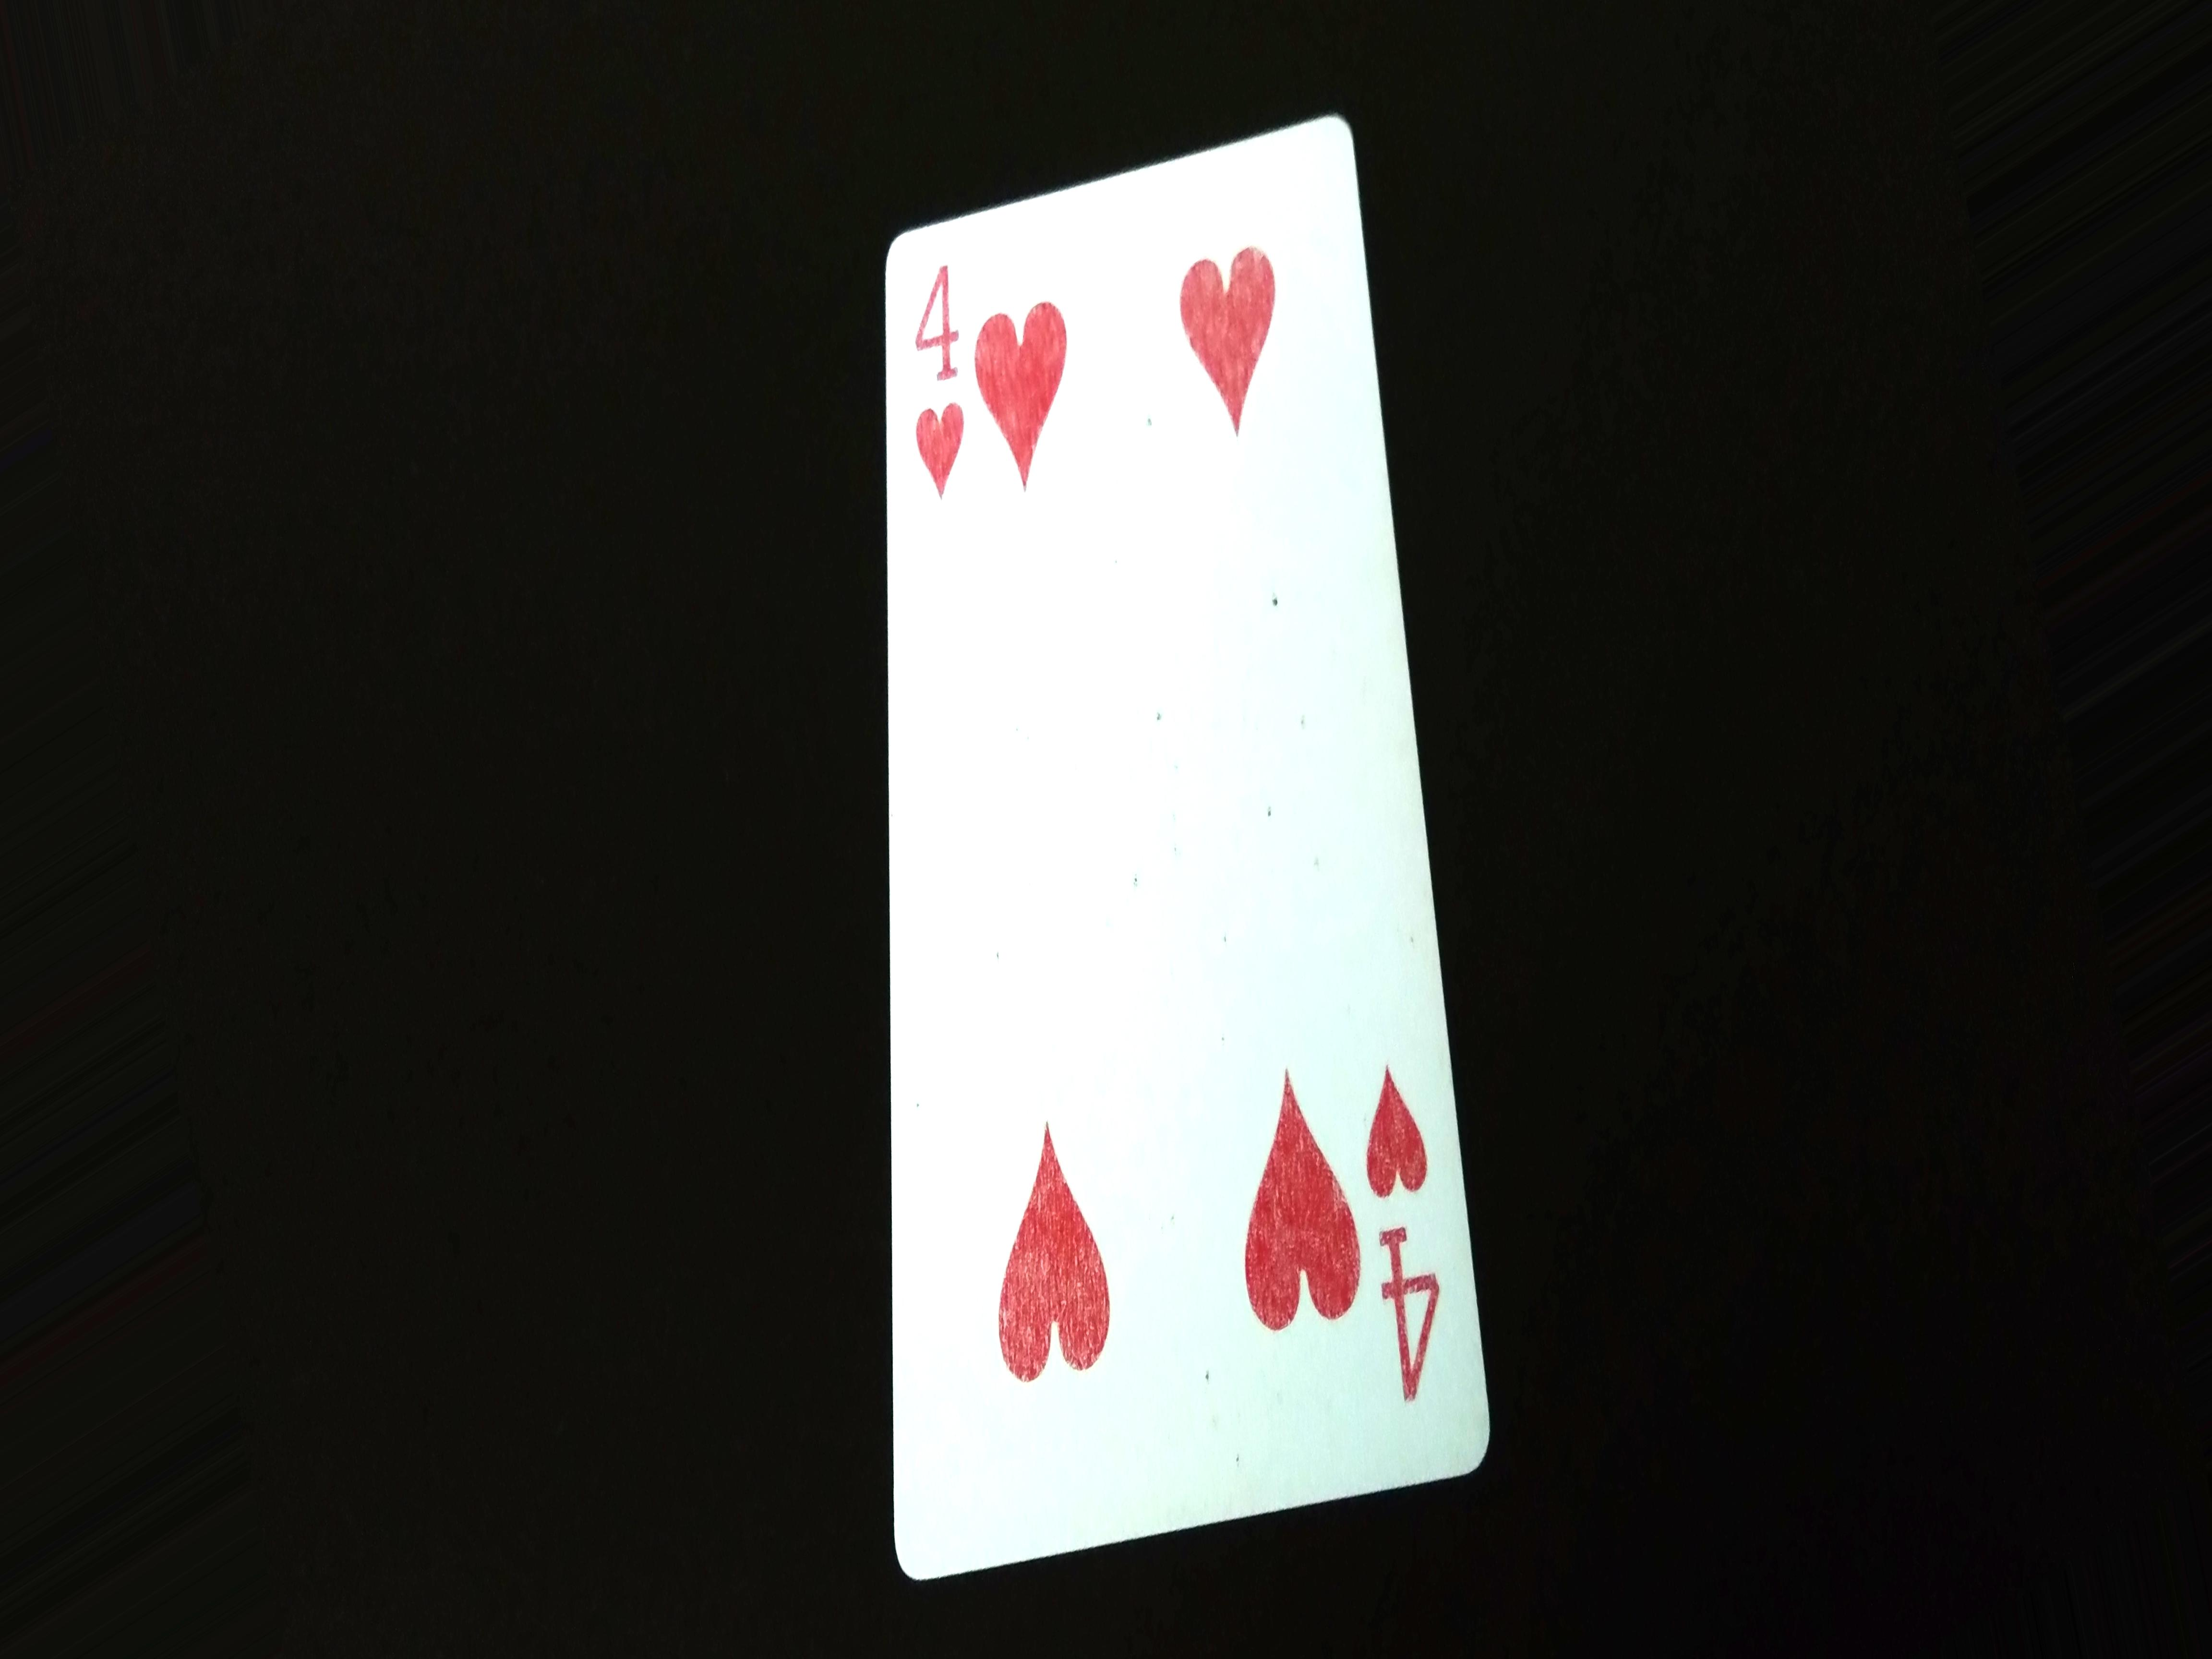4H: (1355, 1063, 1461, 1394)
